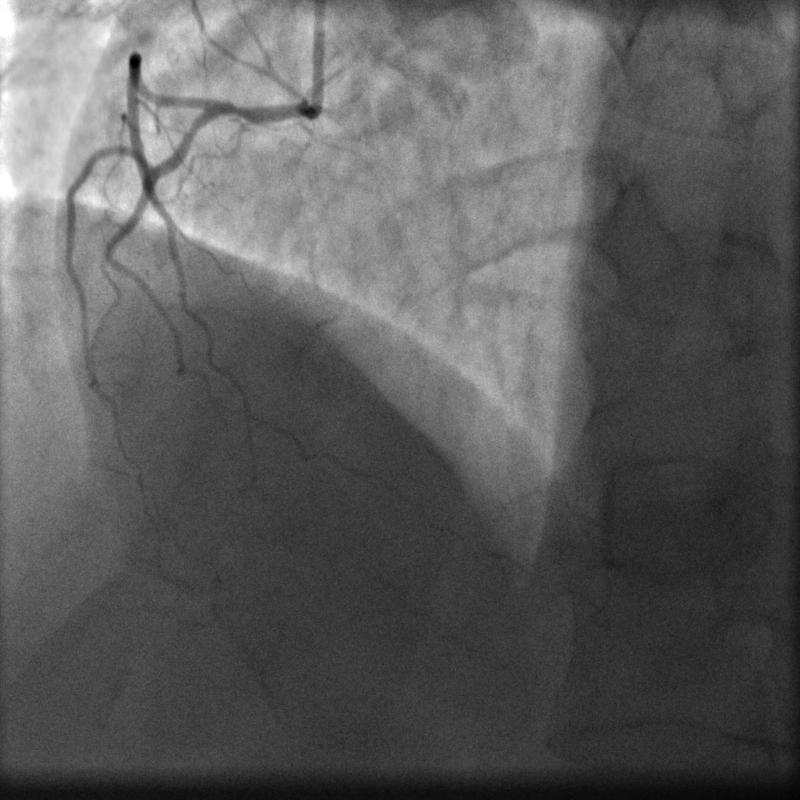Stenosis: (227, 90, 253, 129)
